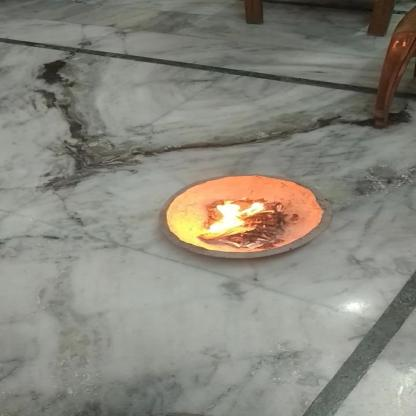fire: (203, 192, 271, 240)
